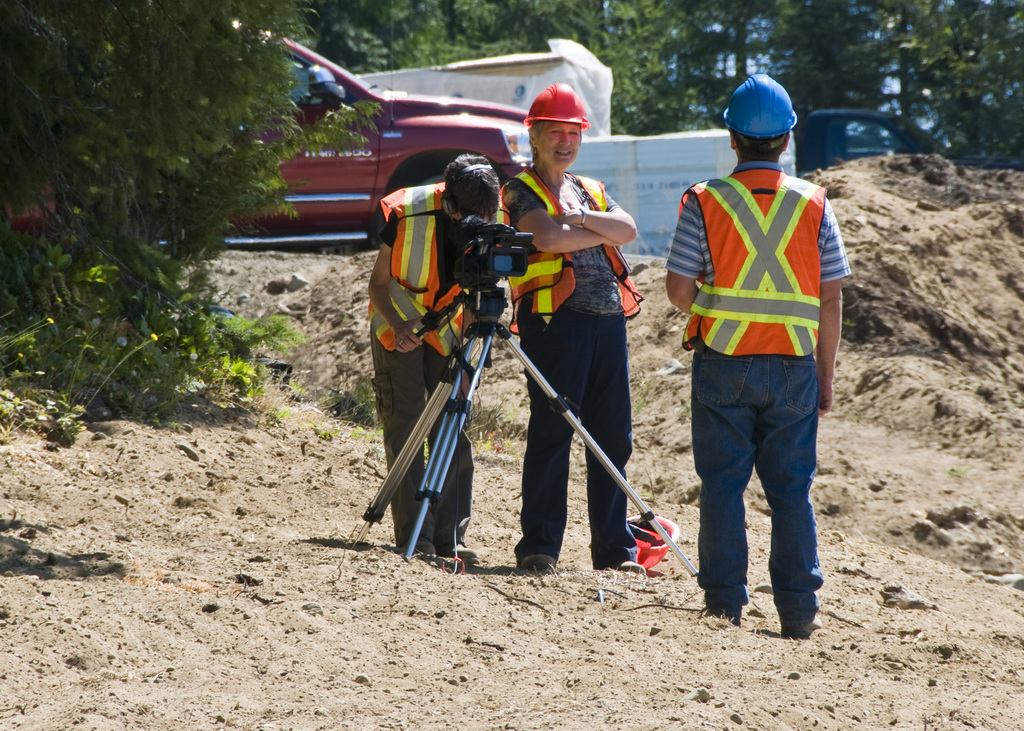Tree: (0, 0, 382, 403), (294, 0, 1024, 169)
